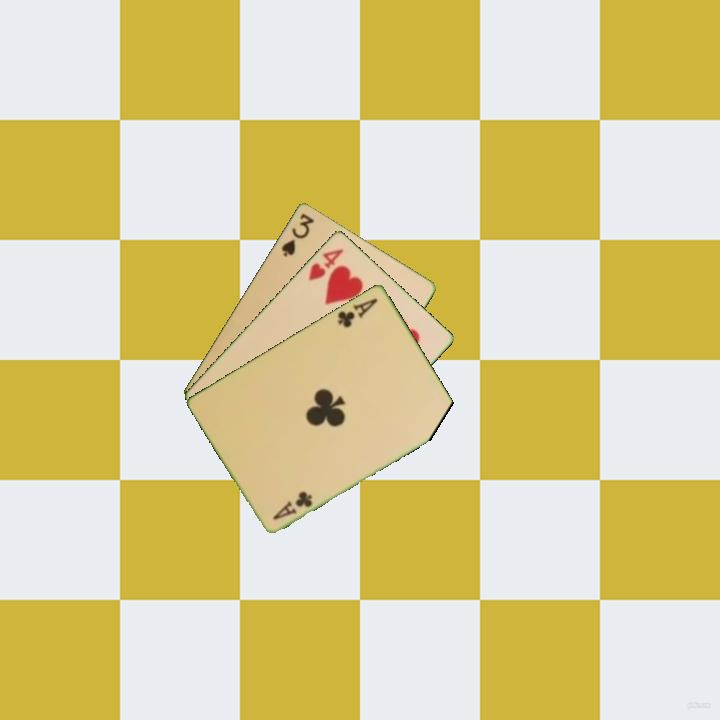3s: (277, 209, 317, 260)
4h: (305, 245, 347, 283)
Ac: (334, 294, 380, 330), (269, 487, 316, 522)
